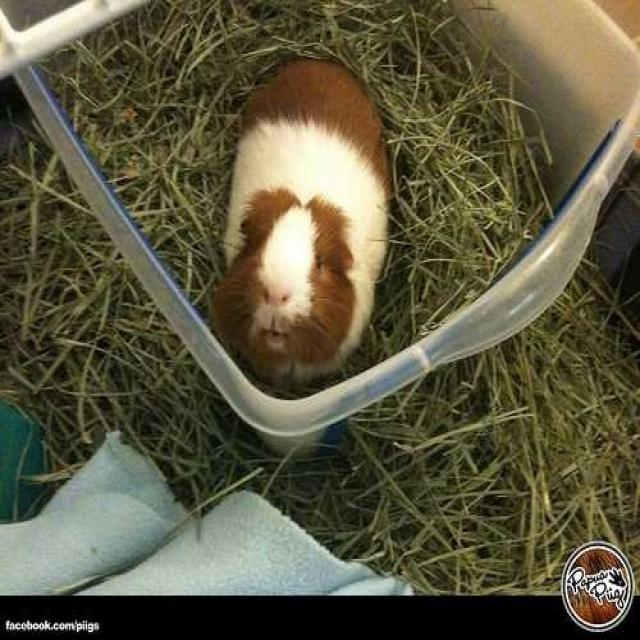guinea pig: (218, 56, 387, 390)
